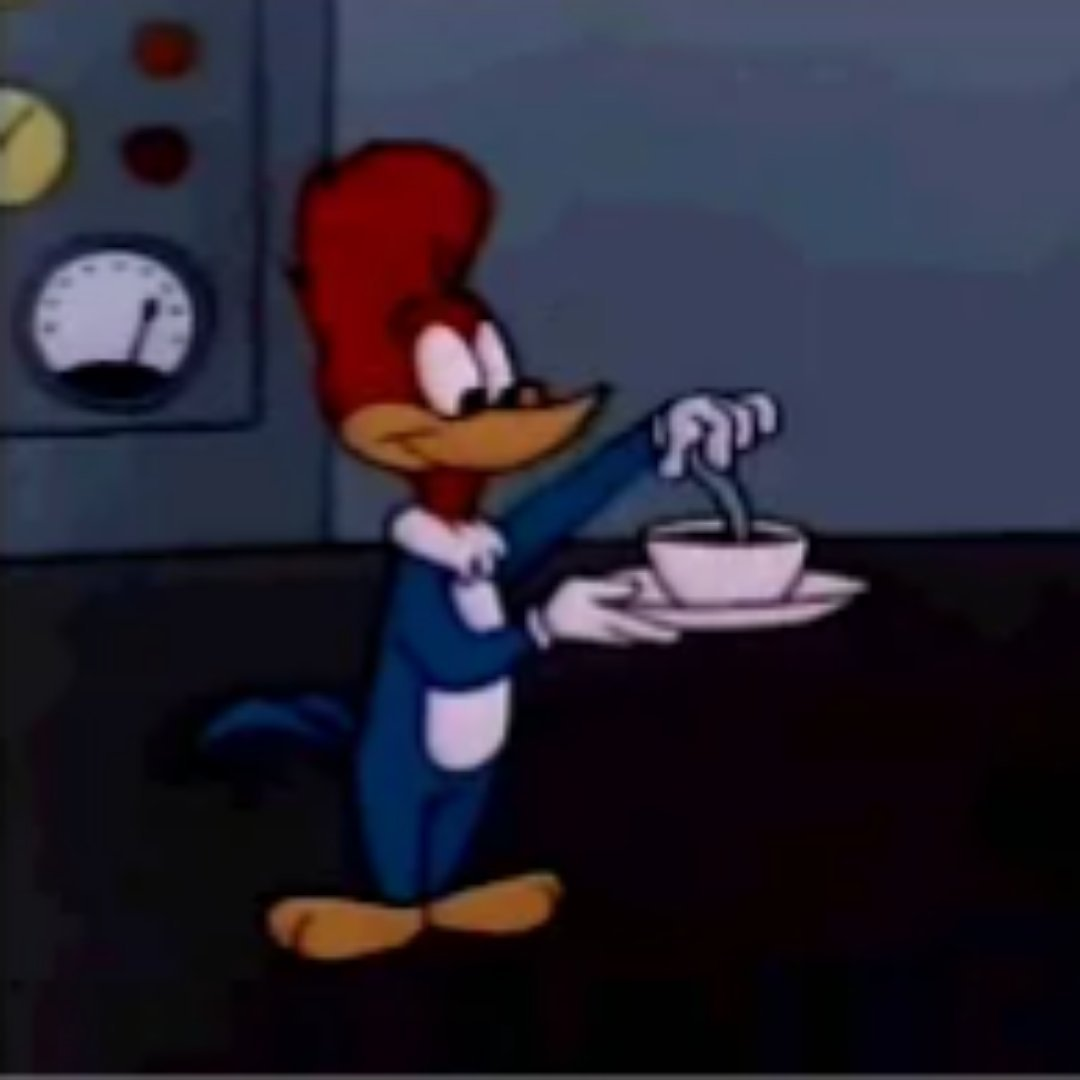picapau: (187, 145, 866, 1002)
